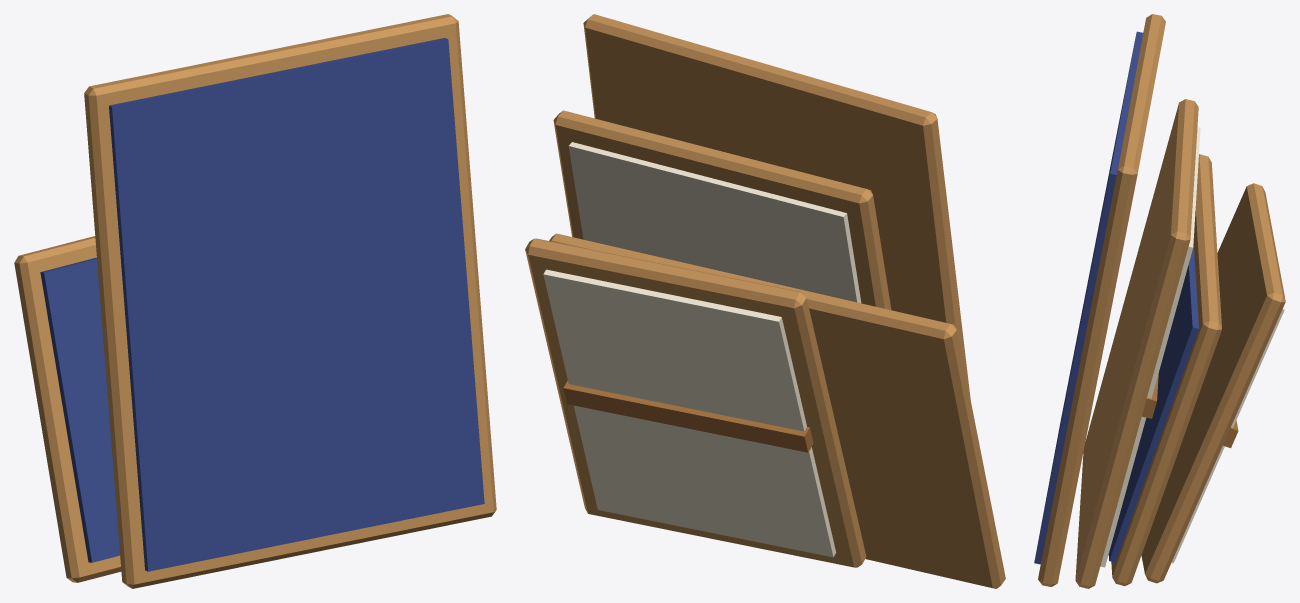
File: canvas_stack.glb
3 views of the same model, side by side, from view 1: azimuth 30°, elevation 25°; view 2: azimuth 150°, elevation 25°; view 3: azimuth 270°, elevation 25° (orthographic). The views are drawn at different scales.
Parts seen in each view (by area): view 1: canvas_stack; view 2: canvas_stack; view 3: canvas_stack.
Part boxes in pixels (left/top/right/bottom): canvas_stack: left=14, top=14, right=496, bottom=588; canvas_stack: left=525, top=14, right=1005, bottom=588; canvas_stack: left=1034, top=14, right=1285, bottom=588.
Bounding box in the file's own units: 0.6178 × 0.6932 × 0.3725.
